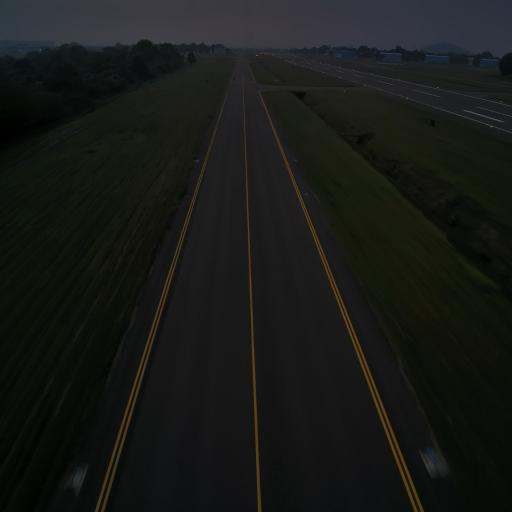on: (69, 462, 83, 486), (424, 446, 436, 472), (292, 157, 295, 160), (197, 156, 198, 162)
